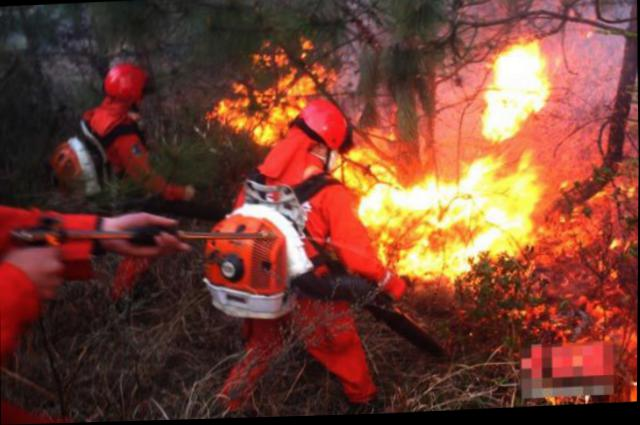fire: (480, 45, 549, 144), (446, 157, 542, 227), (381, 222, 470, 279), (358, 178, 445, 229), (256, 72, 311, 115), (468, 222, 526, 260), (336, 149, 393, 187), (208, 97, 245, 129), (245, 112, 279, 145), (248, 49, 291, 68), (311, 63, 335, 88), (229, 79, 246, 95), (297, 38, 309, 60)
